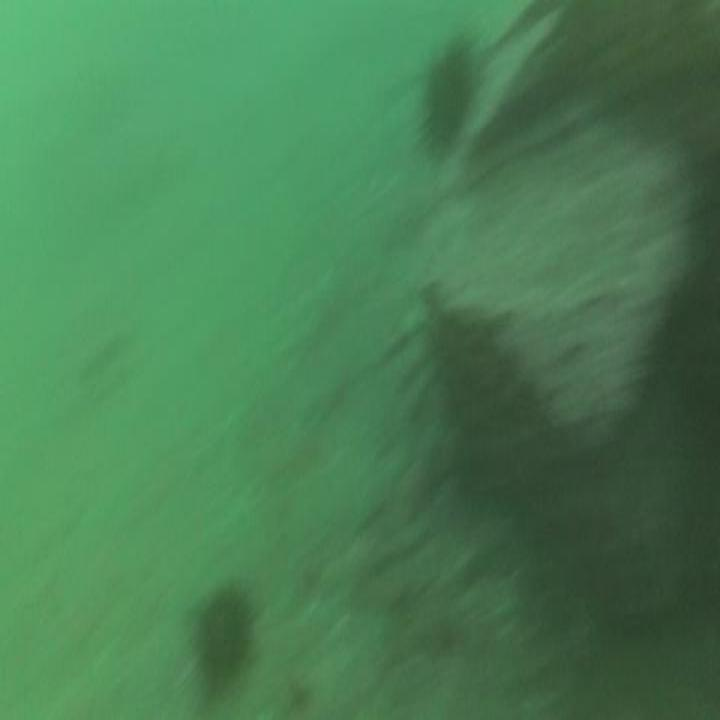echinus: (187, 574, 256, 704), (415, 39, 478, 160)
